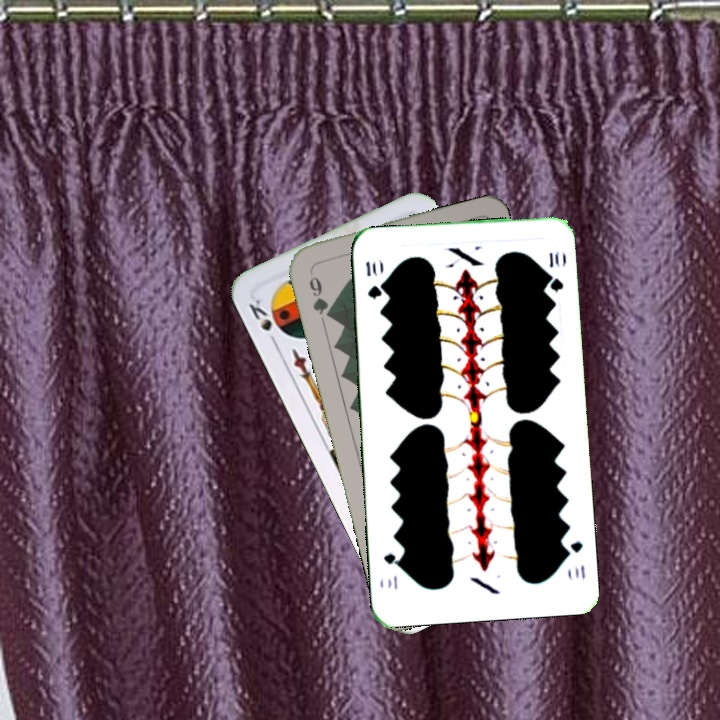G10: (560, 537, 588, 583), (362, 257, 384, 301)
G9: (305, 266, 335, 322)
SK: (244, 295, 281, 349)
